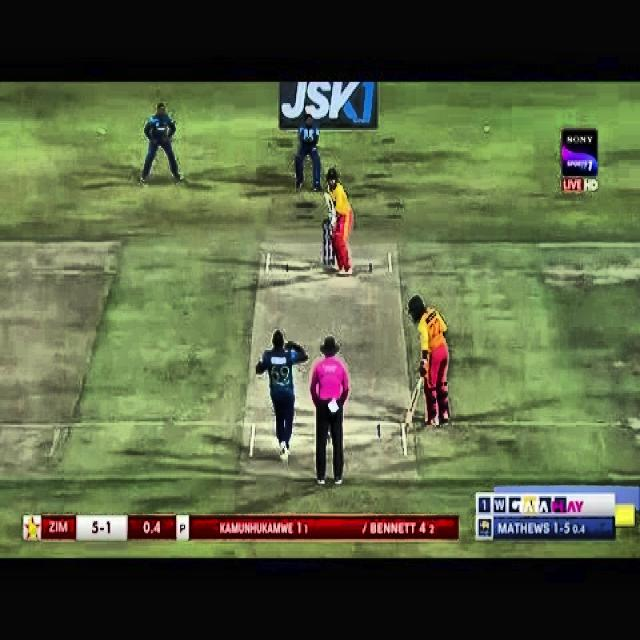Left-stump: (323, 223, 326, 264)
Middle-stump: (328, 222, 330, 264)
Right-stump: (332, 245, 335, 264)
